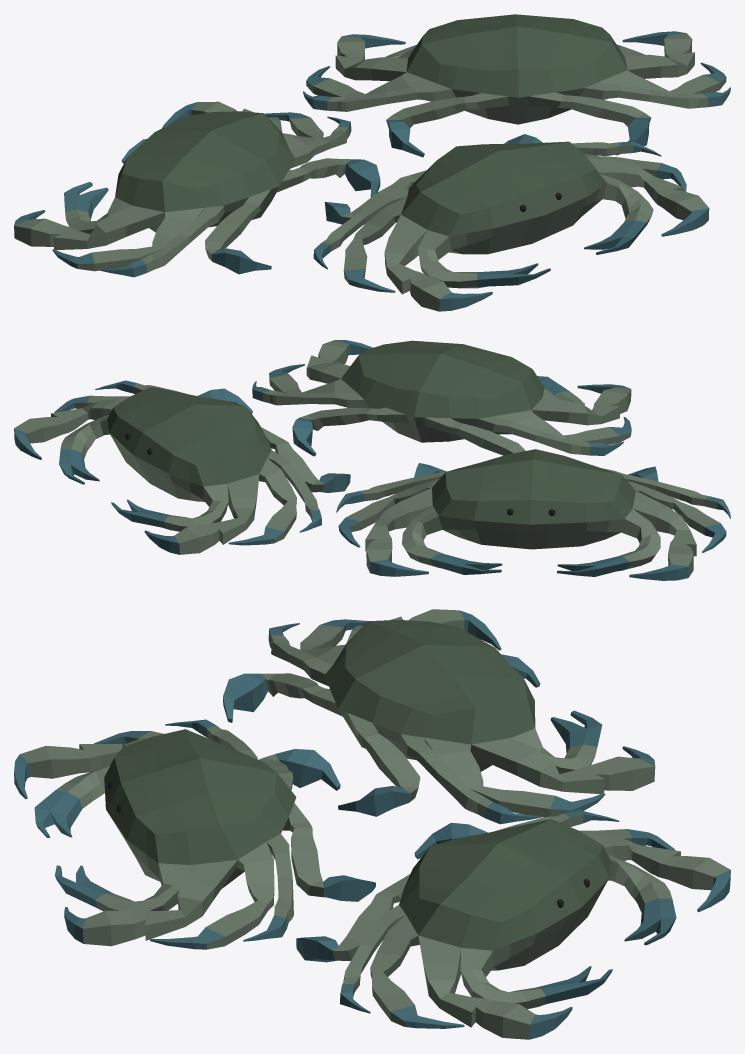
Rendered from Crab.fbx.
3 renders of one model, top to bottom at view 1: azimuth 30°, elevation 25°; view 2: azimuth 150°, elevation 25°; view 3: azimuth 270°, elevation 25°, orthographic. The views are drawn at different scales.
Visible parts, largest first — view 1: Crab; view 2: Crab; view 3: Crab.
Boxes of the visible parts, x1,y1,x2,y2 form: Crab: [14, 14, 730, 311]; Crab: [14, 340, 730, 580]; Crab: [14, 609, 730, 1039].
Size of the model in its own units: 149 by 17.74 by 109.
